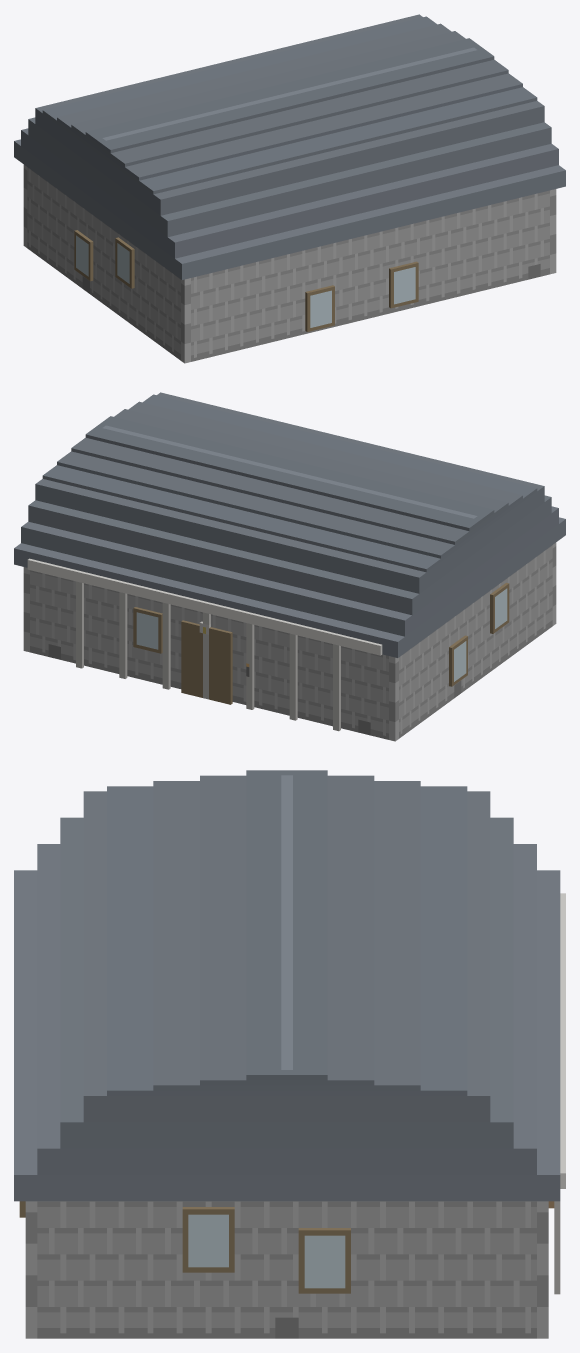
File: gran_mercado_02.glb
The picture shows the model from 3 angles, top to bottom: view 1: azimuth 30°, elevation 25°; view 2: azimuth 150°, elevation 25°; view 3: azimuth 270°, elevation 25°; orthographic projection. The views are drawn at different scales.
Visible parts, largest first — view 1: gran_mercado_02; view 2: gran_mercado_02; view 3: gran_mercado_02.
Boxes of the visible parts, box(x1,y1,x2,y2) form: gran_mercado_02: box(14, 14, 565, 363); gran_mercado_02: box(14, 392, 565, 741); gran_mercado_02: box(14, 770, 565, 1338).
Bounding box in the file's own units: 12.4 × 5.1 × 9.5.
